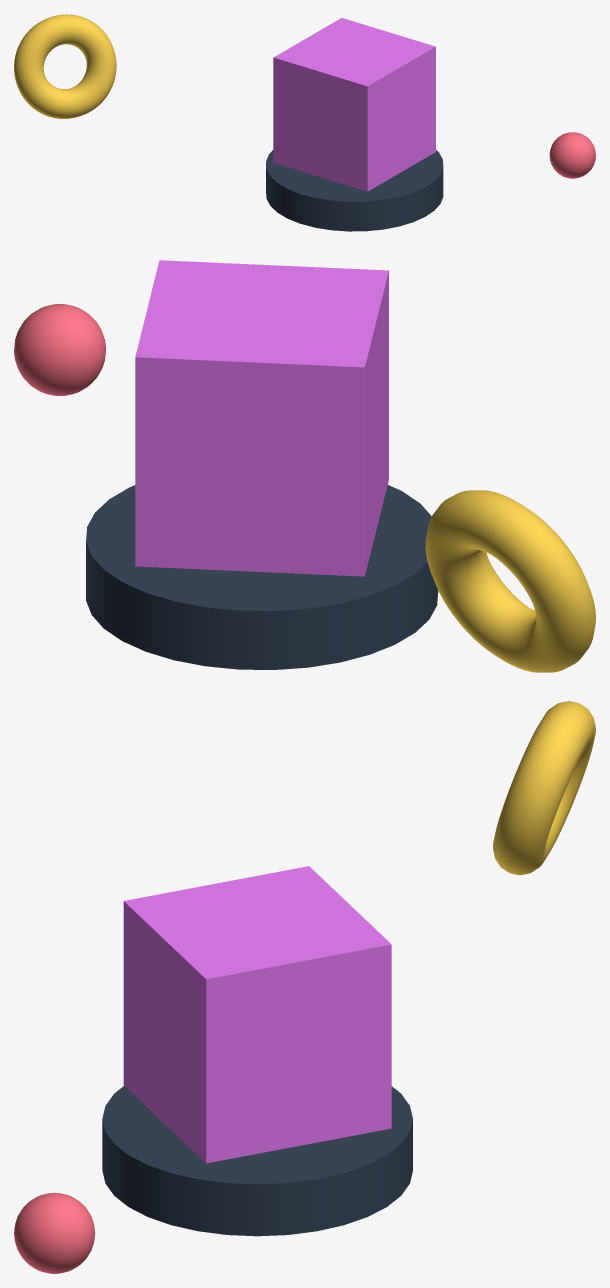
File: composition.gltf
3 renders of one model, top to bottom at view 1: azimuth 30°, elevation 25°; view 2: azimuth 150°, elevation 25°; view 3: azimuth 270°, elevation 25°, orthographic. The views are drawn at different scales.
Parts seen in each view (by area): view 1: Product, Plinth, Halo, Accent; view 2: Product, Plinth, Halo, Accent; view 3: Product, Plinth, Halo, Accent.
Part boxes in pixels (left/top/right/bottom): Product: left=273, top=18, right=435, bottom=191; Plinth: left=266, top=150, right=443, bottom=231; Halo: left=14, top=14, right=116, bottom=118; Accent: left=549, top=132, right=595, bottom=178; Product: left=135, top=260, right=388, bottom=576; Plinth: left=86, top=485, right=438, bottom=669; Halo: left=425, top=490, right=595, bottom=672; Accent: left=14, top=304, right=105, bottom=395; Product: left=123, top=866, right=391, bottom=1163; Plinth: left=102, top=1086, right=412, bottom=1236; Halo: left=493, top=701, right=595, bottom=875; Accent: left=14, top=1192, right=95, bottom=1273.
Bounding box in the file's own units: 3.65 × 1.32 × 2.44.
